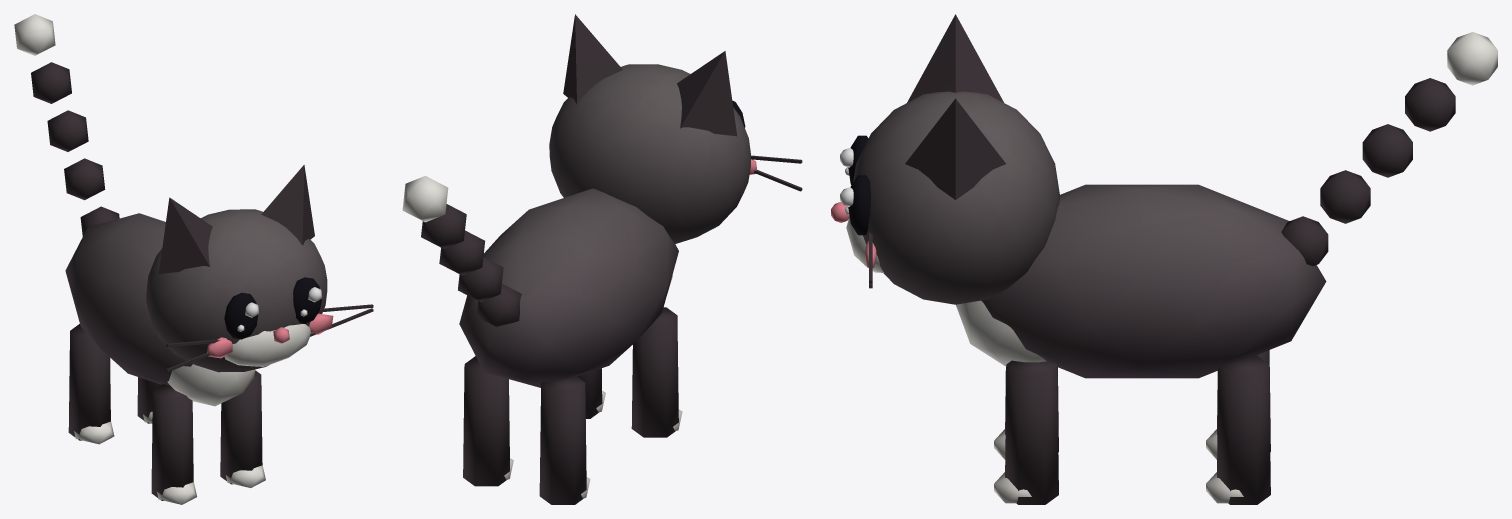
File: cat_black.glb
3 renders of one model, left to right at view 1: azimuth 30°, elevation 25°; view 2: azimuth 150°, elevation 25°; view 3: azimuth 270°, elevation 25°, orthographic. The views are drawn at different scales.
Parts seen in each view (by area): view 1: HeadMesh, Body, TailMesh, LegFLMesh, LegBLMesh, LegFRMesh, LegBRMesh; view 2: HeadMesh, Body, TailMesh, LegBLMesh, LegBRMesh, LegFLMesh, LegFRMesh; view 3: Body, HeadMesh, TailMesh, LegBRMesh, LegFRMesh.
Part boxes in pixels (box(x1,y1,x2,y2)): HeadMesh: box(146, 165, 373, 372); Body: box(65, 213, 255, 406); TailMesh: box(14, 14, 119, 236); LegFLMesh: box(151, 384, 196, 504); LegBLMesh: box(68, 324, 114, 444); LegFRMesh: box(220, 370, 265, 487); LegBRMesh: box(137, 377, 161, 423); HeadMesh: box(549, 14, 802, 243); Body: box(459, 188, 678, 387); TailMesh: box(402, 176, 521, 327); LegBLMesh: box(539, 375, 590, 504); LegBRMesh: box(463, 356, 513, 486); LegFLMesh: box(631, 307, 682, 437); LegFRMesh: box(577, 368, 605, 418); Body: box(956, 184, 1326, 378); HeadMesh: box(831, 14, 1060, 304); TailMesh: box(1281, 32, 1497, 266); LegBRMesh: box(1206, 355, 1270, 504); LegFRMesh: box(994, 360, 1058, 504).
Bounding box in the file's own units: 0.3593 × 0.5854 × 0.7867.
